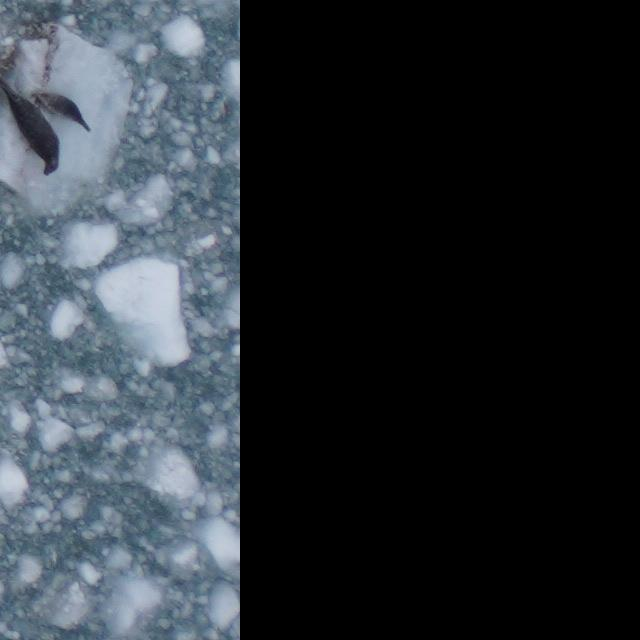seal: (0, 74, 64, 179), (25, 87, 97, 138)
